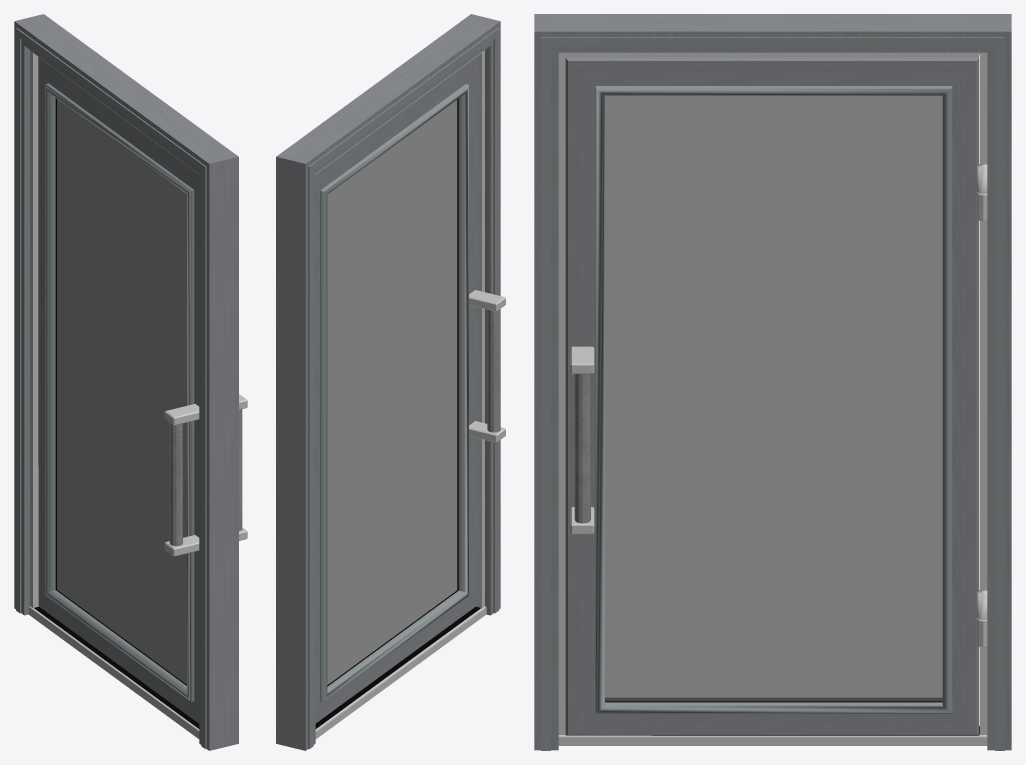
Rendered from Door02a.fbx.
3 views of the same model, side by side, from view 1: azimuth 30°, elevation 25°; view 2: azimuth 150°, elevation 25°; view 3: azimuth 270°, elevation 25° (orthographic). The views are drawn at different scales.
Visible parts, largest first — view 1: Door02_A, Door02; view 2: Door02_A, Door02; view 3: Door02_A, Door02.
Boxes of the visible parts, x1,y1,x2,y2 form: Door02_A: (38,57,247,723); Door02: (14,14,238,750); Door02_A: (315,57,505,723); Door02: (276,14,500,750); Door02_A: (565,55,987,735); Door02: (534,14,1011,750).
Size of the model in its own units: 27.67 by 208 by 126.
